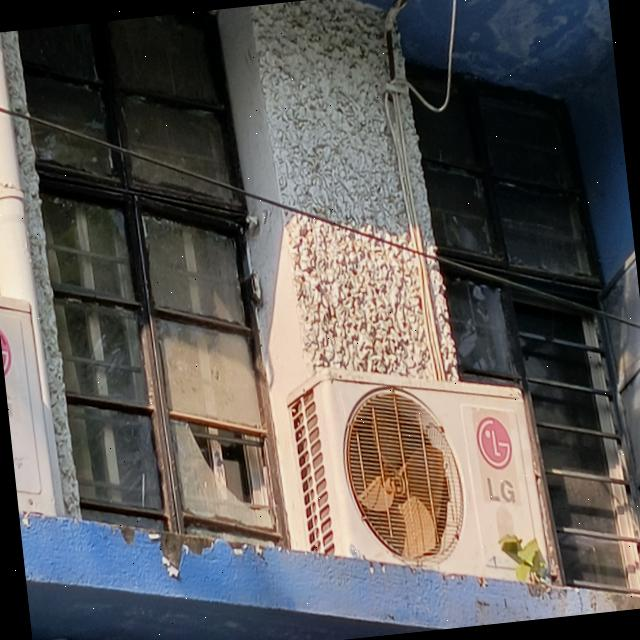peeling: (120, 526, 248, 580)
